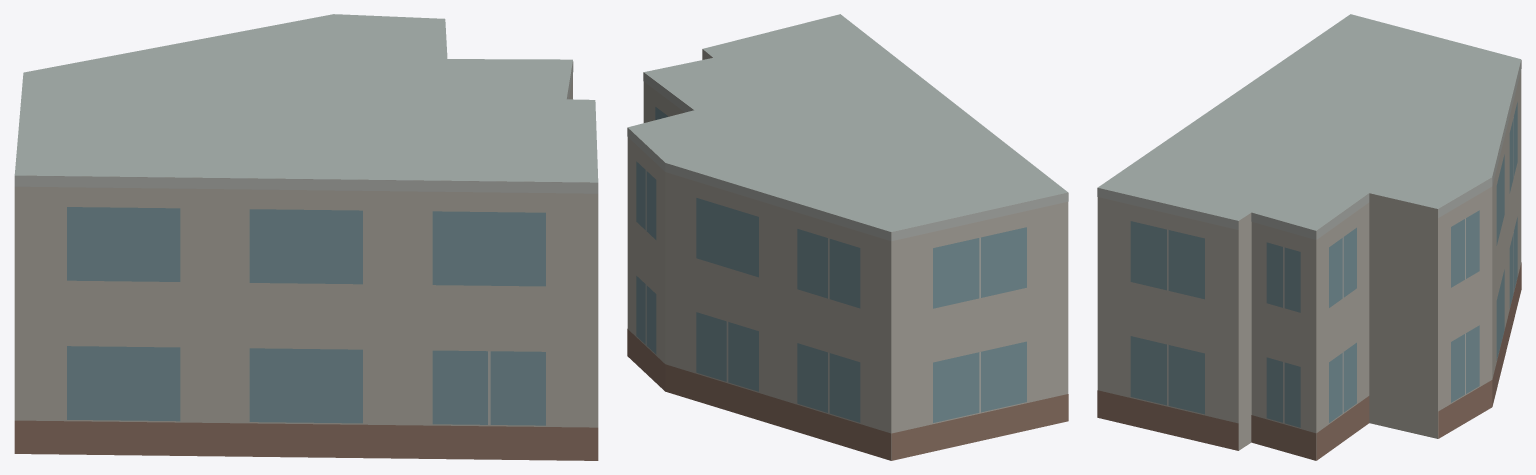
File: survey-upis-33040480.glb
The picture shows the model from 3 angles, left to right: view 1: azimuth 30°, elevation 25°; view 2: azimuth 150°, elevation 25°; view 3: azimuth 270°, elevation 25°; orthographic projection. The views are drawn at different scales.
Visible parts, largest first — view 1: survey-upis-33040480.tmp; view 2: survey-upis-33040480.tmp; view 3: survey-upis-33040480.tmp.
Boxes of the visible parts, box(x1,y1,x2,y2) form: survey-upis-33040480.tmp: box(14, 14, 598, 460); survey-upis-33040480.tmp: box(627, 14, 1068, 460); survey-upis-33040480.tmp: box(1097, 14, 1521, 460).
Bounding box in the file's own units: 12.35 × 6.1 × 10.2.
